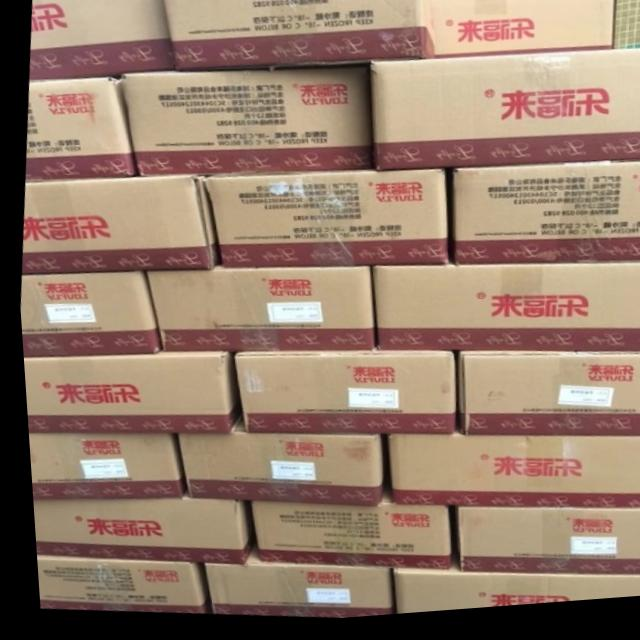box: (365, 55, 640, 174), (122, 72, 365, 179), (369, 270, 640, 358), (200, 177, 445, 269), (378, 439, 640, 519), (228, 354, 456, 440), (449, 168, 640, 269), (166, 0, 432, 72), (175, 417, 381, 509), (144, 270, 369, 354), (19, 179, 211, 274), (19, 356, 236, 438), (452, 357, 640, 444), (26, 498, 252, 570), (237, 507, 441, 574), (446, 514, 640, 582), (24, 77, 135, 181), (382, 573, 640, 617), (190, 562, 388, 618), (17, 275, 154, 355), (31, 0, 173, 77), (430, 0, 612, 60), (23, 430, 173, 500), (29, 560, 197, 610)
